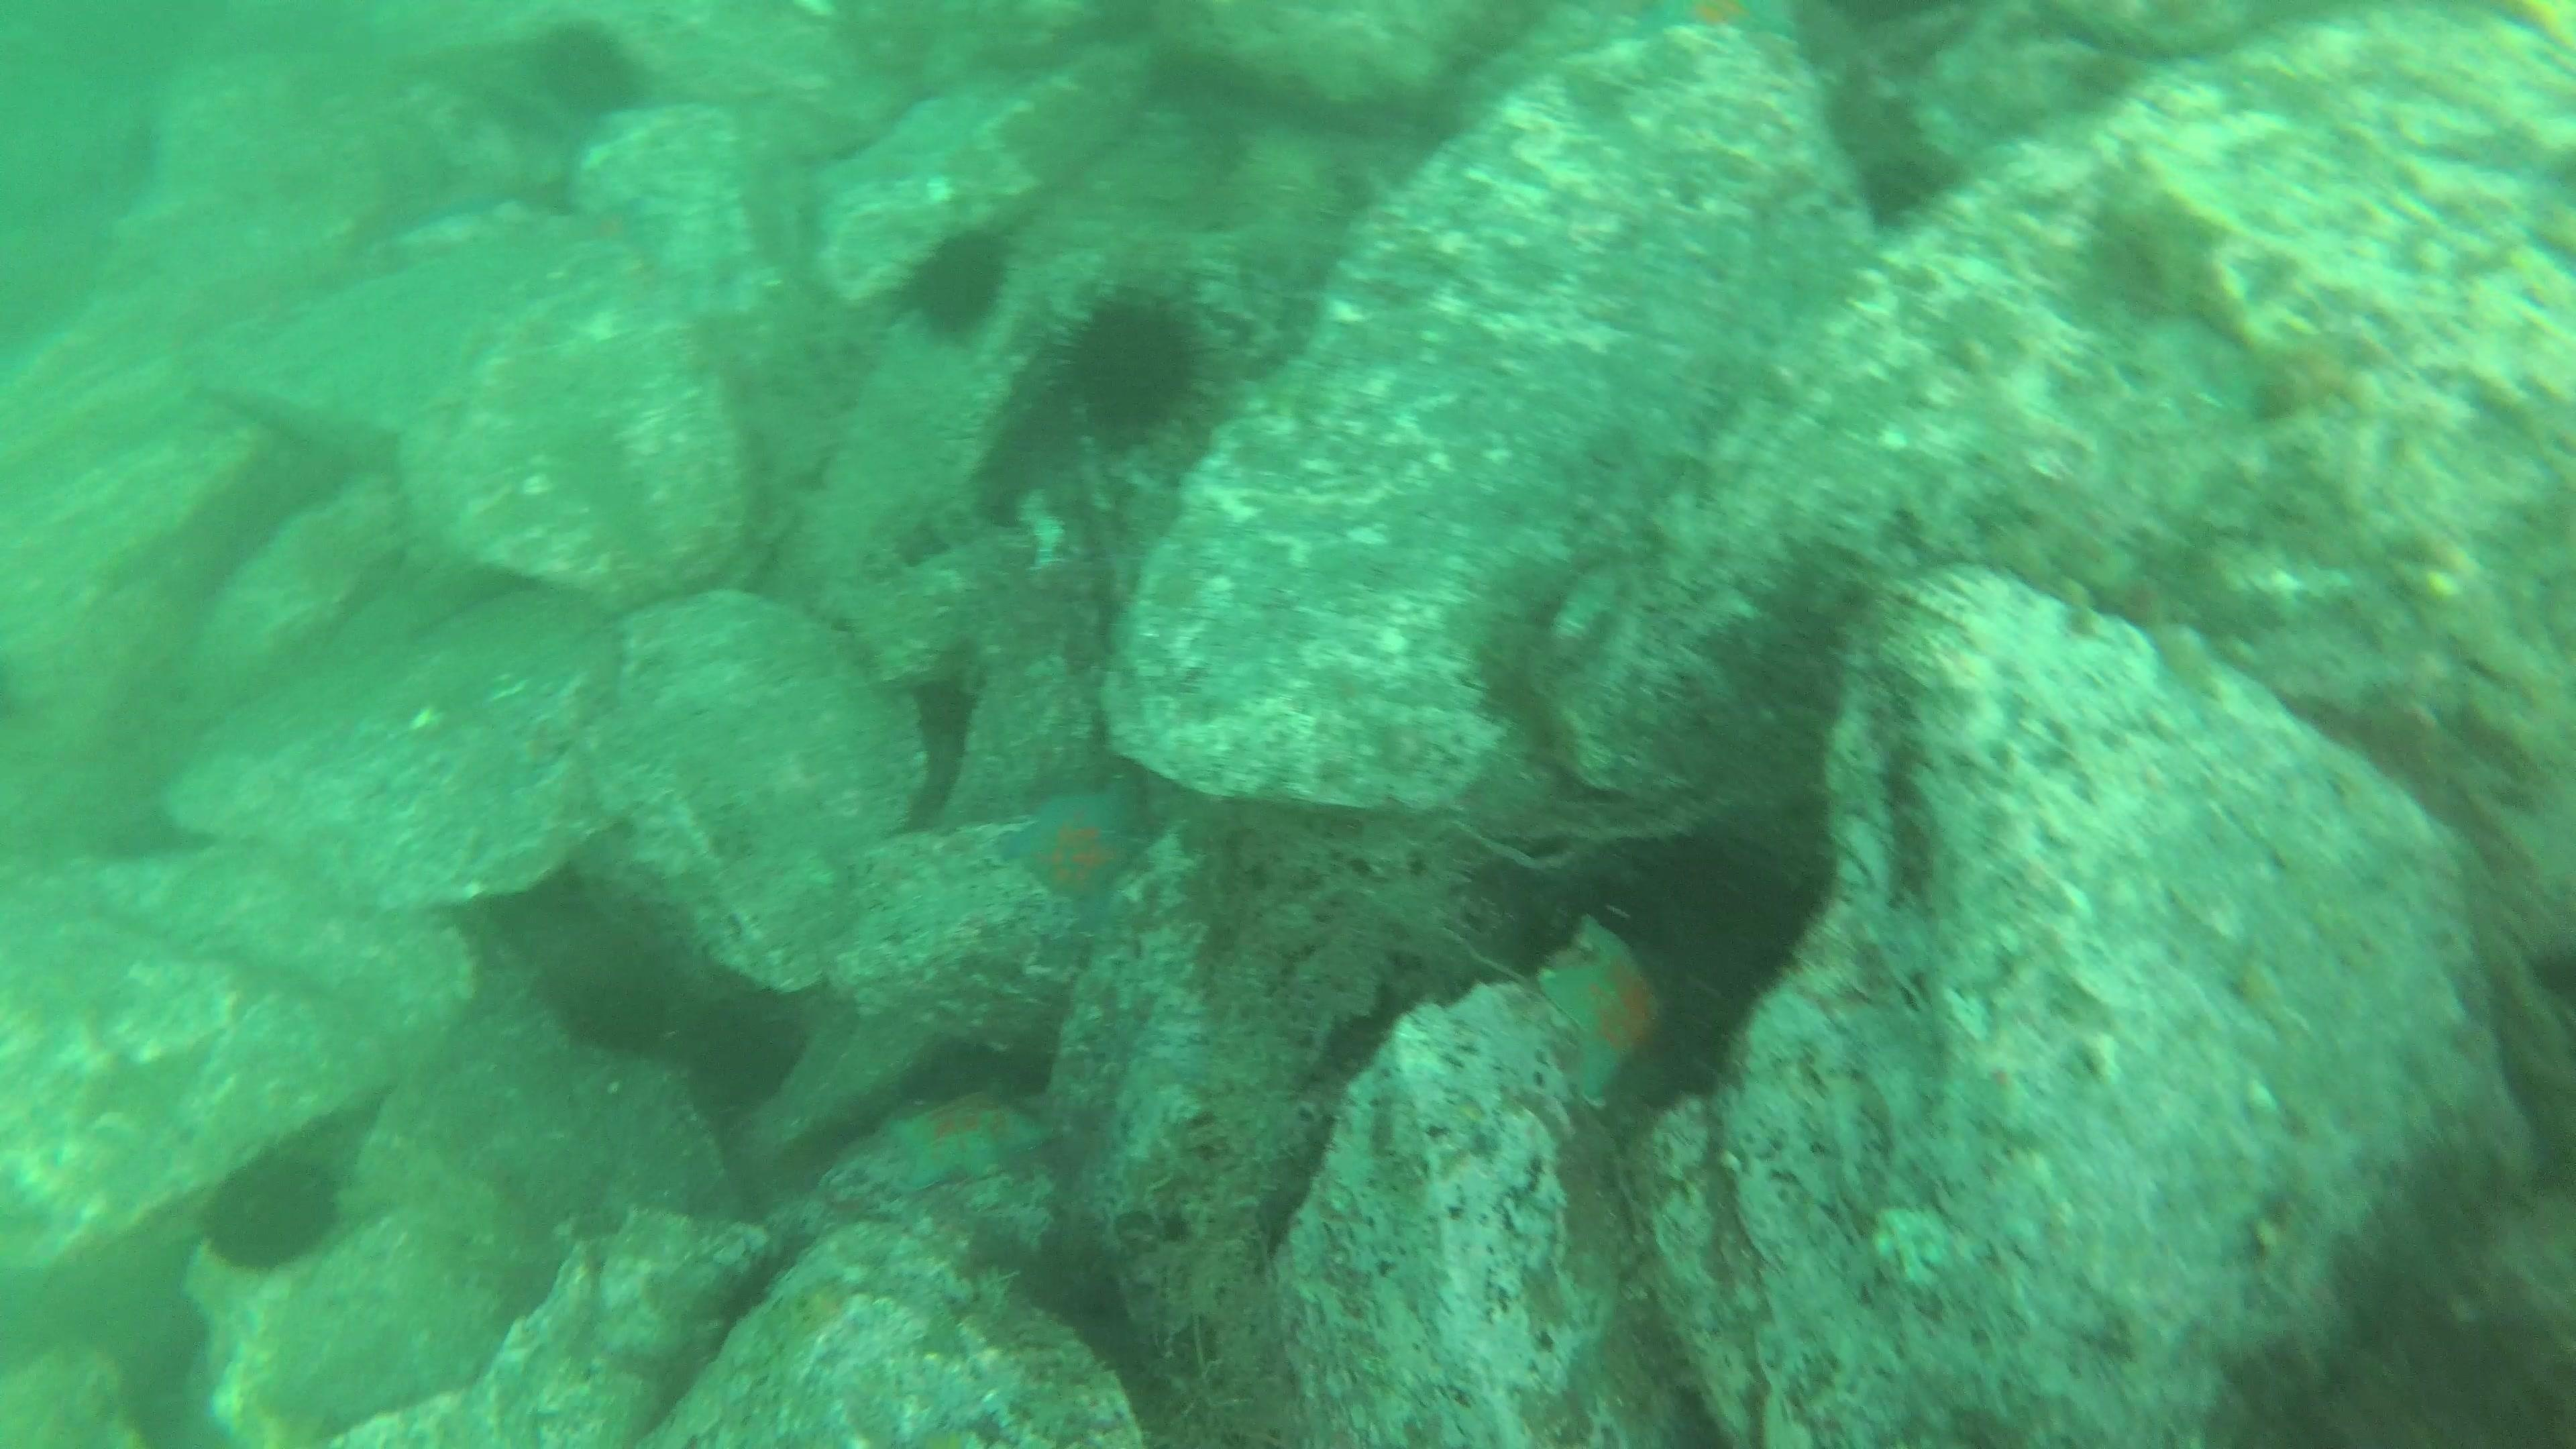echinus: (1053, 278, 1219, 446), (193, 1138, 350, 1279), (892, 219, 1019, 345), (517, 16, 653, 131)
starfish: (1527, 909, 1714, 1120), (991, 773, 1155, 929), (867, 1081, 1060, 1201), (1637, 0, 1803, 58)
